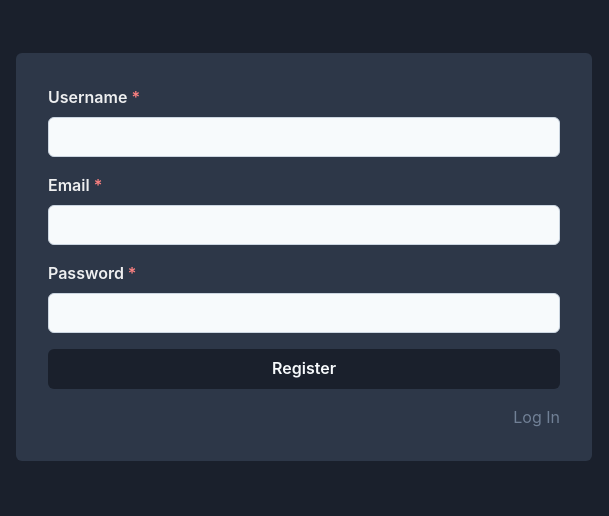
register.spec.ts - Register Form › should show errors when fields are empty
The width and height of the screenshot is (609, 516).
Click the button with test id "register-submit-btn" at (304, 369), box x1=48 y1=349 x2=560 y2=389
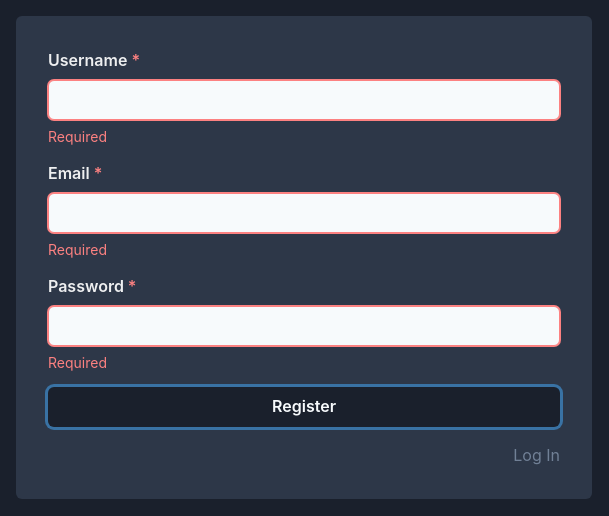
Expected: the text "Required" below "Username" is shown, x1=48 y1=128 x2=107 y2=145
Expected: the text "Required" below "Email" is shown, x1=48 y1=241 x2=107 y2=258
Expected: the text "Required" below "Password" is shown, x1=48 y1=354 x2=107 y2=371
